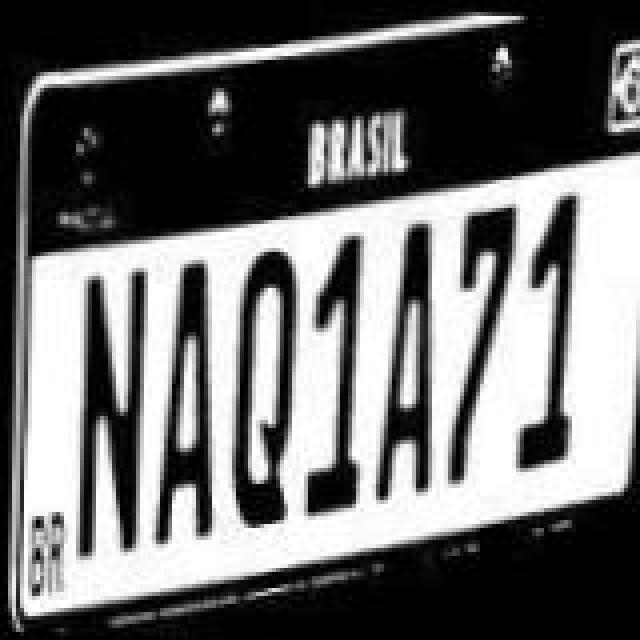1: (516, 182, 600, 478), (296, 220, 376, 524)
7: (444, 196, 528, 492)
A: (146, 244, 230, 552), (378, 208, 454, 504)
N: (60, 260, 152, 568)
Q: (222, 232, 306, 540)
